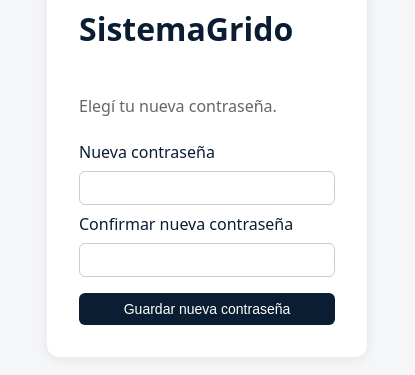
Scenario: ResetPasswordPage › C) invoca updatePassword con la contraseña nueva y muestra éxito
Step 1. Type "contrasenaSegura1" into the password field labelled "Nueva contraseña" → (207, 188), box [79,171,335,205]
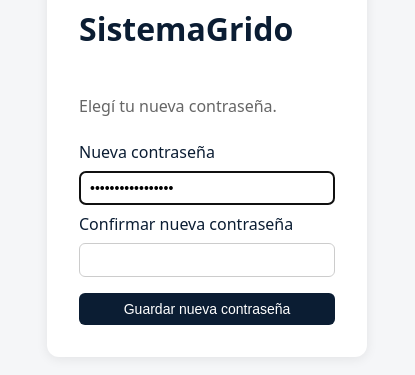
Step 2. Type "contrasenaSegura1" into the password field labelled "Confirmar nueva contraseña" → (207, 260), box [79,243,335,277]
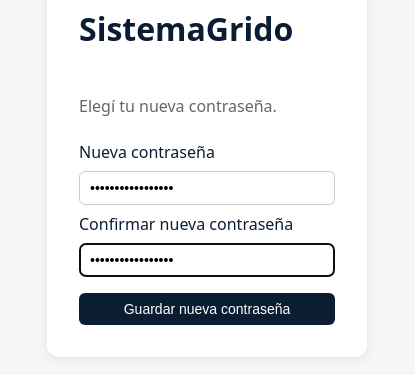
Step 3. Click the button "Guardar nueva contraseña" → (207, 309), box [79,293,335,325]
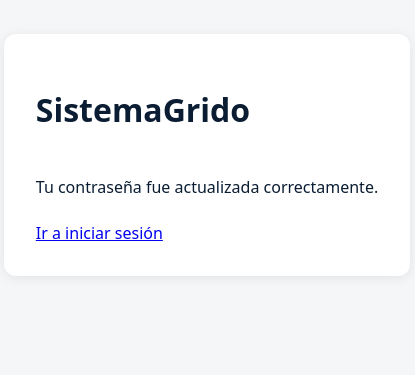
Now the text "Tu contraseña fue actualizada correctamente." is shown, box [36,176,378,198]
